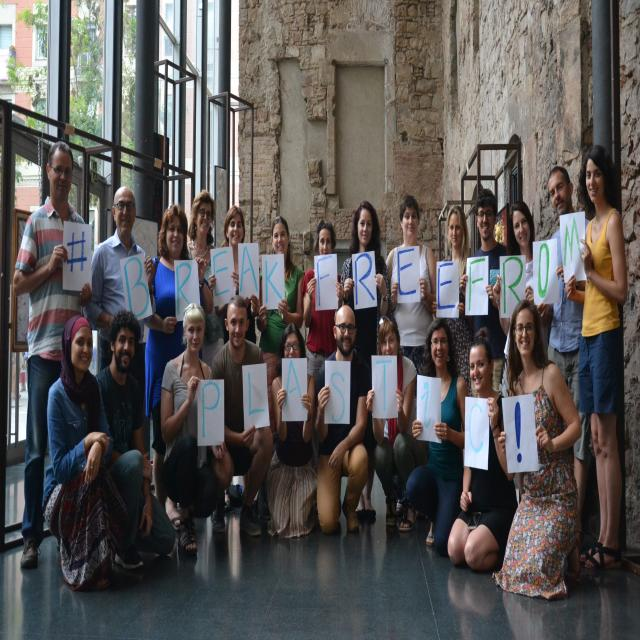body: (13, 135, 96, 572), (492, 296, 583, 601), (565, 142, 629, 575), (191, 524, 397, 638), (144, 203, 213, 534), (536, 165, 592, 542), (40, 312, 112, 584), (447, 325, 519, 571), (94, 306, 158, 572), (404, 315, 474, 551), (85, 184, 157, 412), (340, 199, 389, 522), (18, 558, 190, 640), (160, 303, 213, 557), (212, 294, 268, 533), (443, 572, 638, 640), (316, 304, 369, 544), (365, 314, 419, 532), (458, 188, 512, 398), (268, 322, 318, 542), (257, 214, 305, 440), (383, 193, 437, 376), (494, 198, 535, 400), (432, 204, 474, 398), (186, 190, 225, 368), (304, 218, 344, 380), (217, 205, 261, 346)
